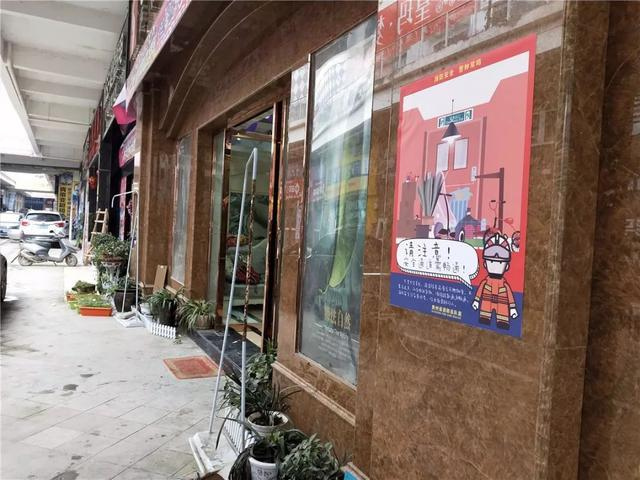bill: (386, 32, 538, 337)
